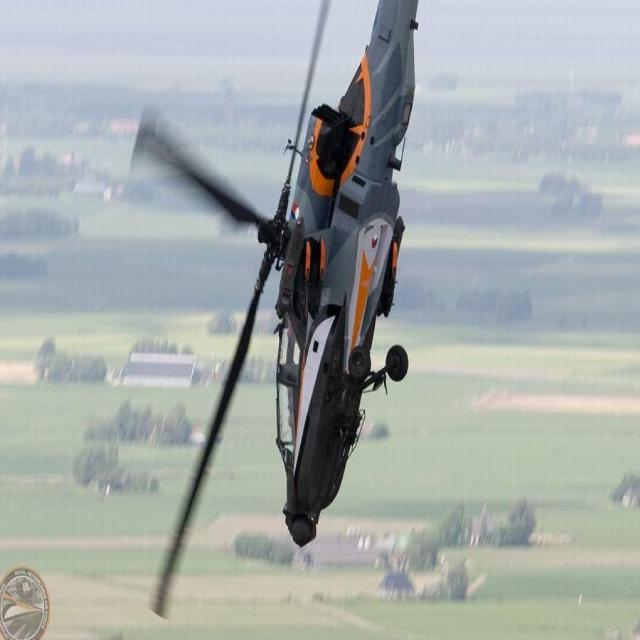MIL_HELO: (96, 13, 425, 640)
